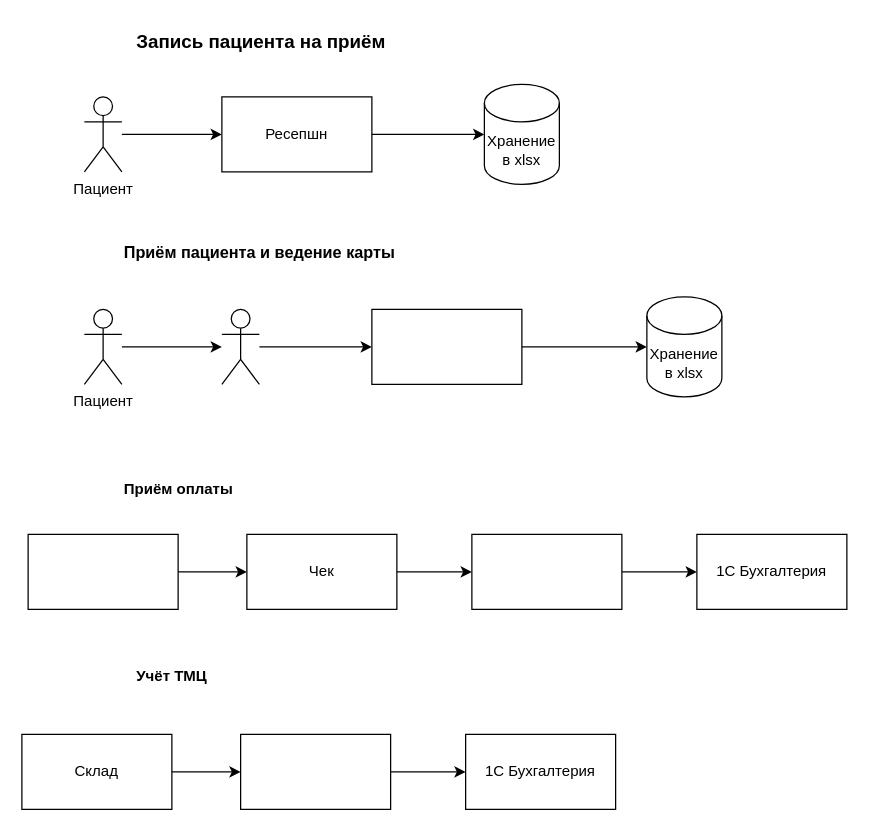
Image size: 869x831. Some labels were removed from this diagram. Here are the shapes that lost their labels. From the top down, the centre of each, then its label:
[240,346]: Доктор
[446,346]: Карта
[102,571]: Касса
[546,571]: ККМ
[315,771]: 1С Торговля и склад
